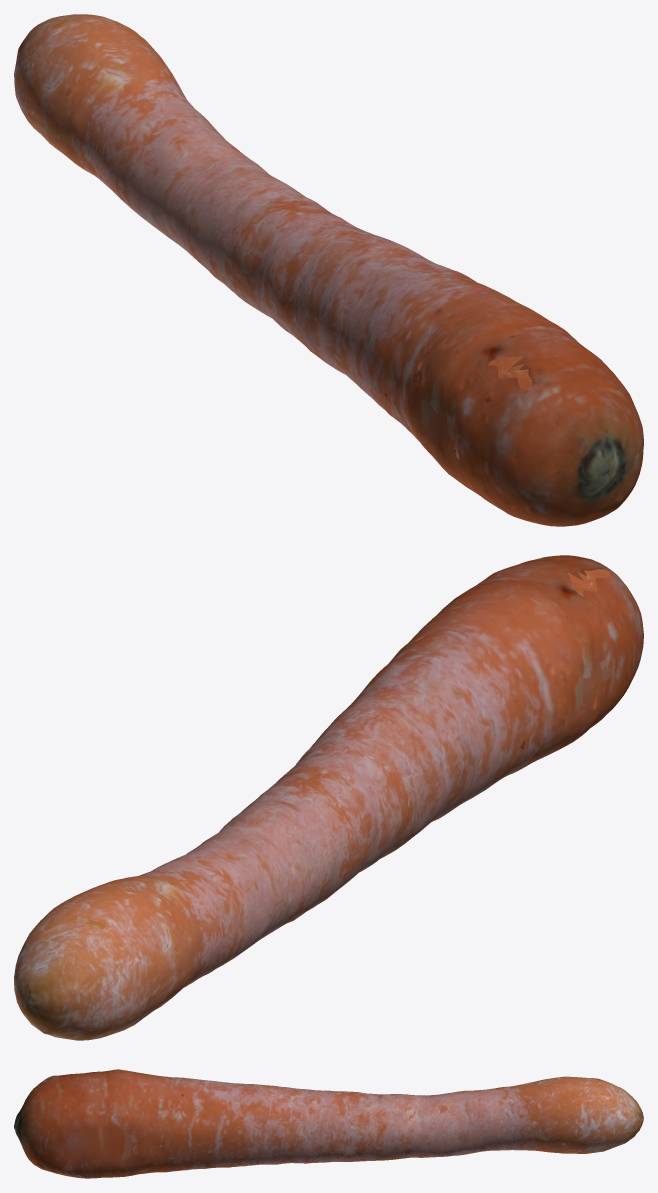
Rendered from carrot.obj.
The picture shows the model from 3 angles, top to bottom: view 1: azimuth 30°, elevation 25°; view 2: azimuth 150°, elevation 25°; view 3: azimuth 270°, elevation 25°; orthographic projection. The views are drawn at different scales.
Visible parts, largest first — view 1: marchew_3_model.004; view 2: marchew_3_model.004; view 3: marchew_3_model.004.
Boxes of the visible parts, bbox=[...] form: marchew_3_model.004: bbox=[14, 14, 643, 526]; marchew_3_model.004: bbox=[14, 555, 643, 1040]; marchew_3_model.004: bbox=[14, 1069, 643, 1178].
Bounding box in the file's own units: 0.0384 × 0.0415 × 0.2479.
